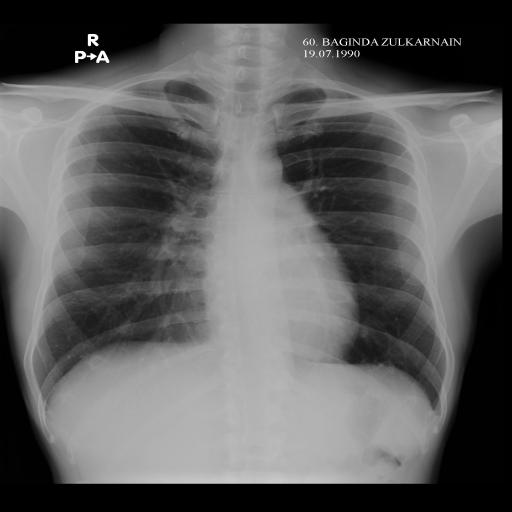normal: (23, 53, 462, 431)
